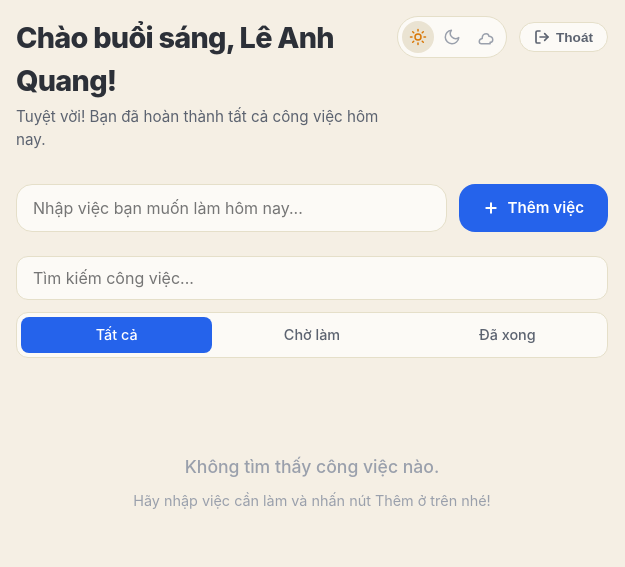
Kiểm thử Giao diện & Tính năng Todo List › Cho phép thêm công việc mới vào danh sách
This screenshot has width=625, height=567.
Expected: the heading "Chào buổi sáng, Lê Anh Quang!" is shown, [16,20,334,98]
Step 1. Type "Chạy bộ 30 phút buổi chiều" into the field with placeholder "Nhập việc bạn muốn làm hôm nay..." → (232, 208), box [16,184,448,232]
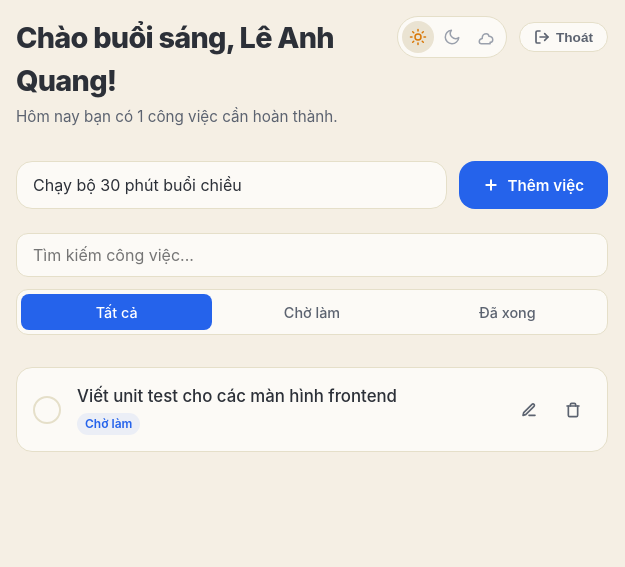
Step 2. Click the button "Thêm việc" → (534, 185), box [460,161,608,209]
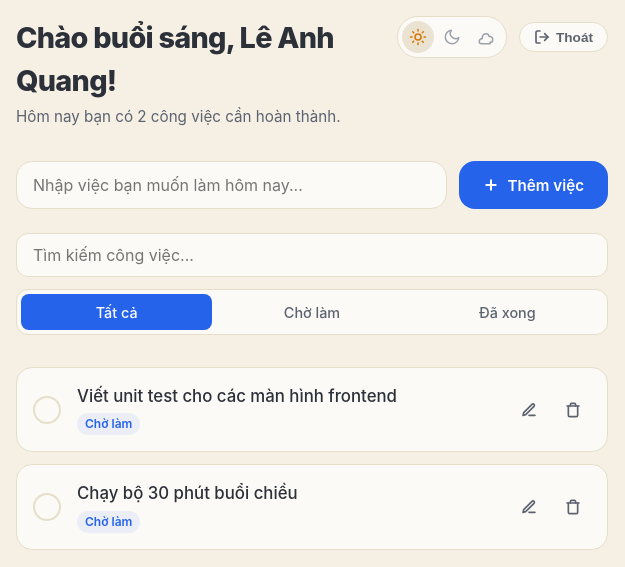
Expected: the text "Chạy bộ 30 phút buổi chiều" is shown, [77,483,298,503]
